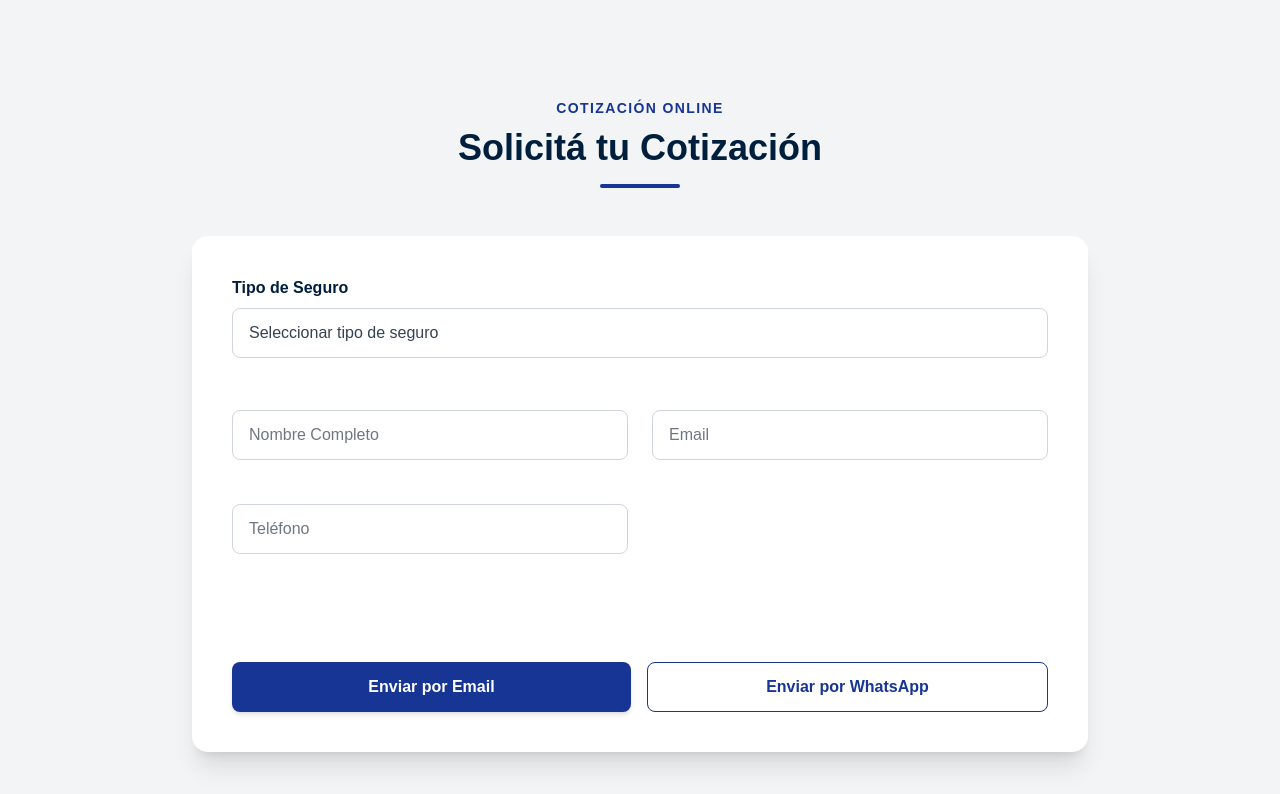
Scenario: Formulario de Cotización Completo › Validaciones de campos dinámicos según tipo de seguro › Validaciones para Seguro de Hogar › No permite enviar si los metros cuadrados están incompletos
The width and height of the screenshot is (1280, 794).
Select "Hogar" in the dropdown named "tipo de seguro" at (640, 333), box [232, 308, 1048, 358]
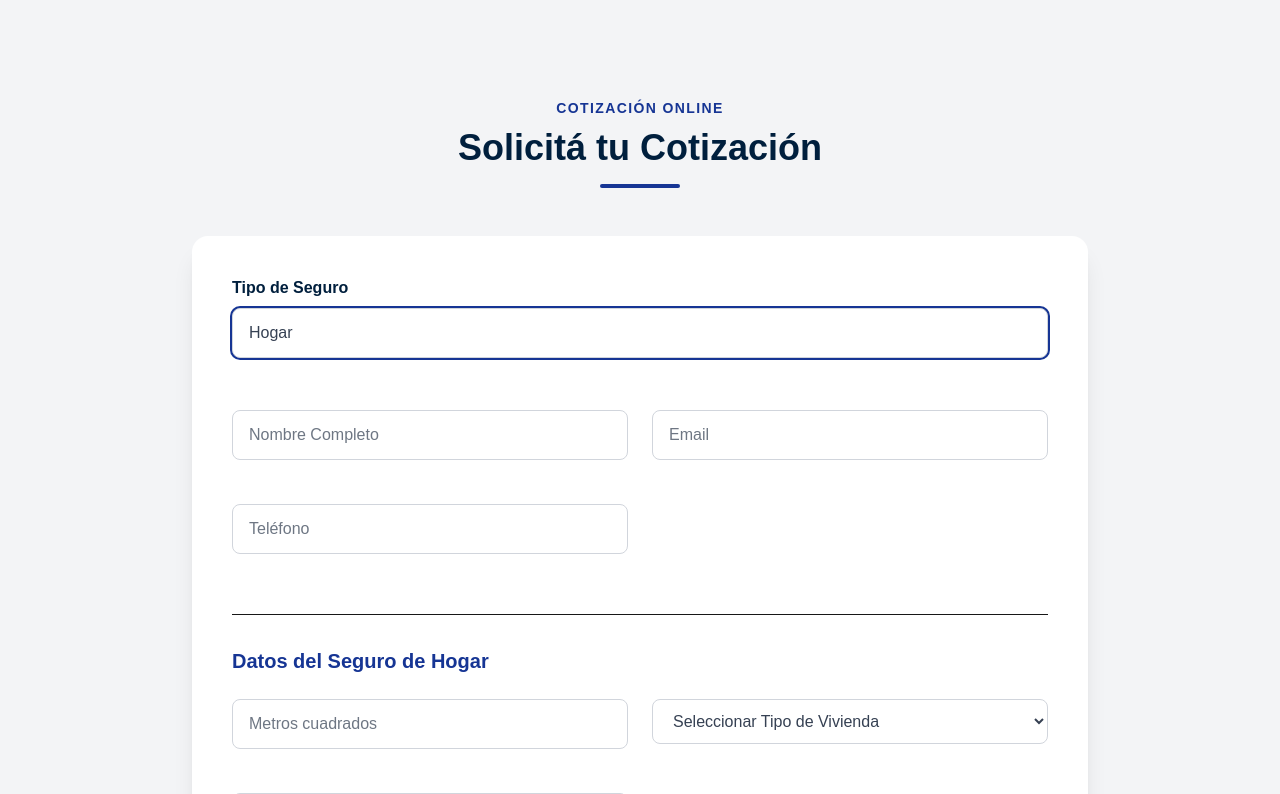
Type "Juan" into the field with placeholder "Nombre Completo" at (430, 435), box [232, 410, 628, 460]
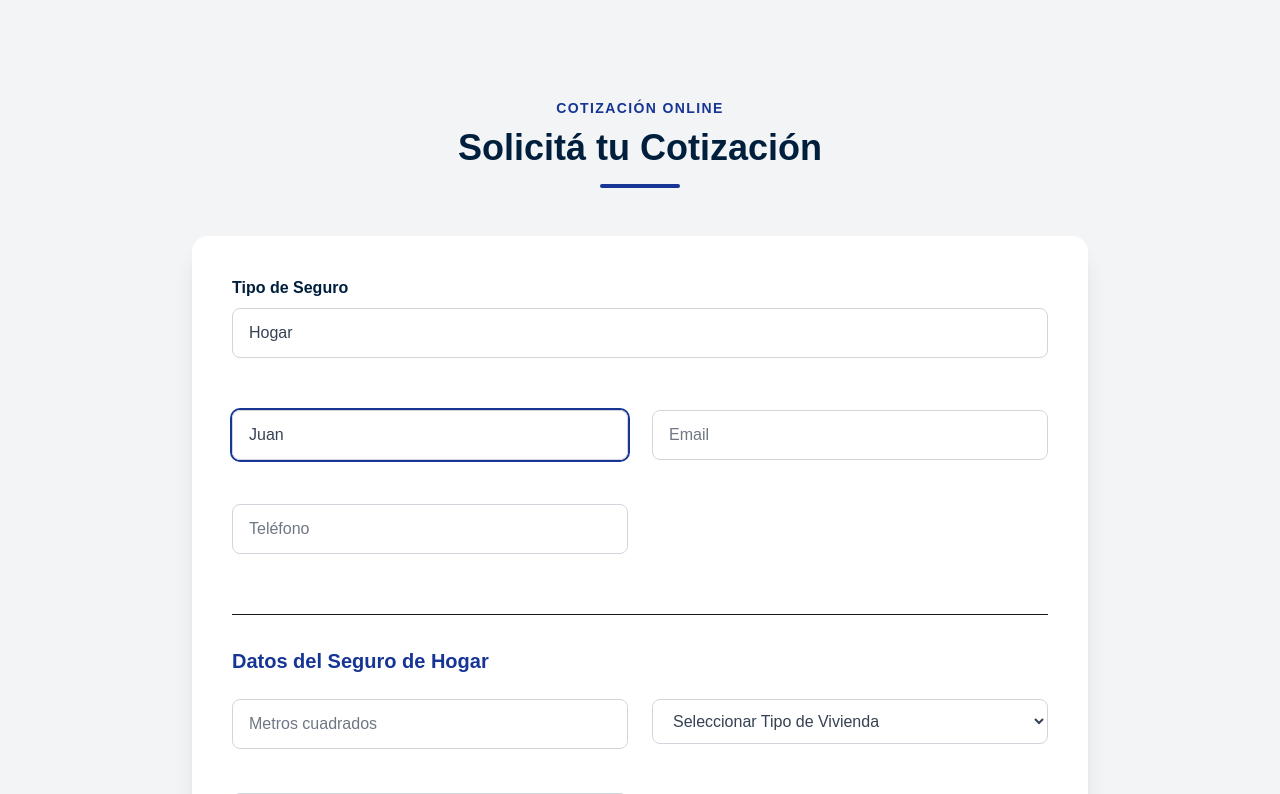
Type "juan@mail.com" into the field with placeholder "Email" at (850, 435), box [652, 410, 1048, 460]
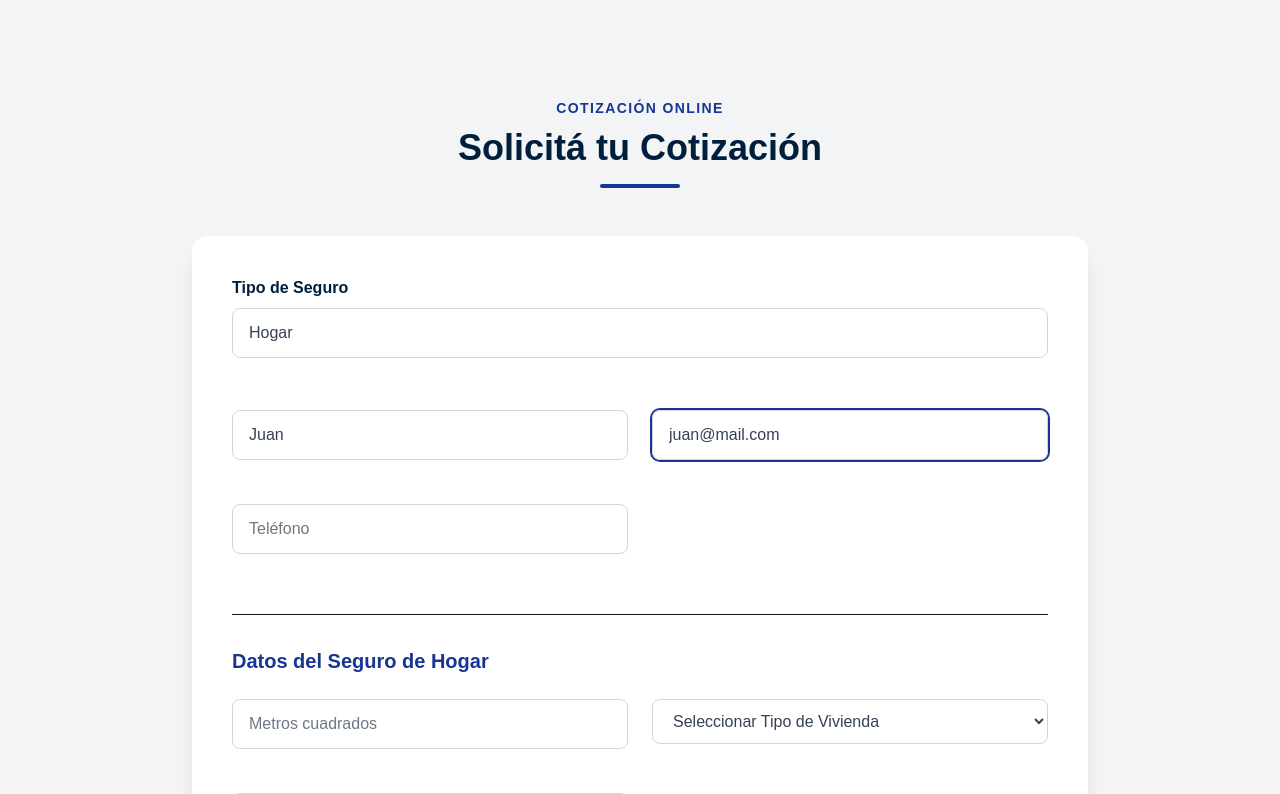
Type "12345678" into the number field with placeholder "Teléfono" at (430, 529), box [232, 504, 628, 554]
(page scrolled)
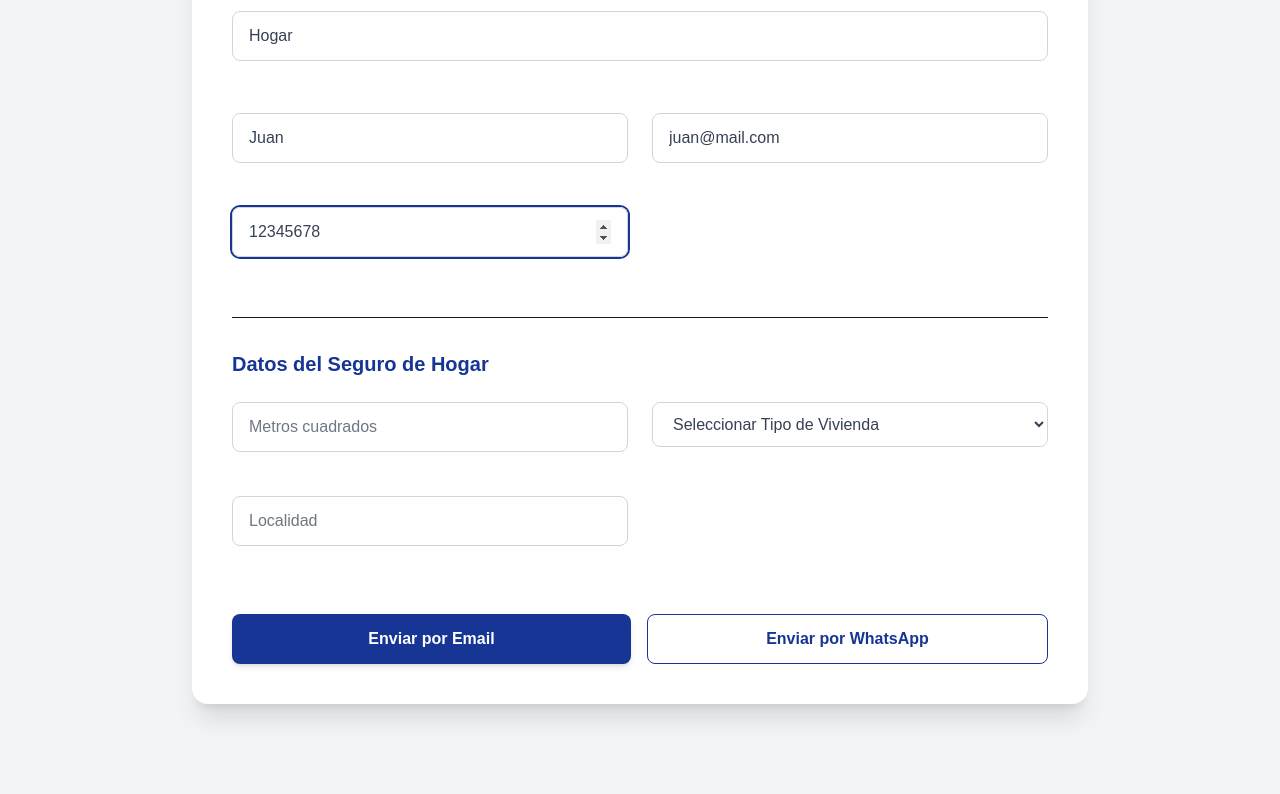
Click the button "Enviar por WhatsApp" at (848, 639), box [647, 614, 1048, 664]
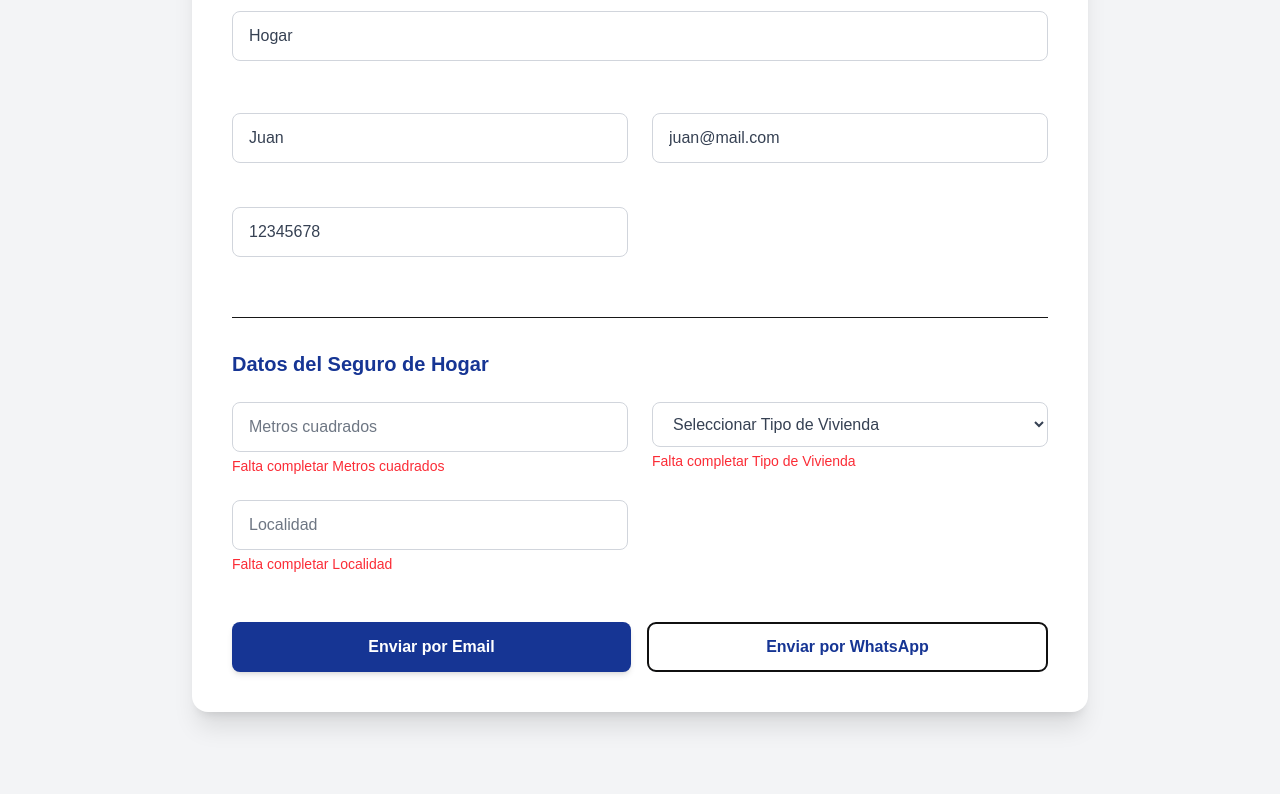
Expected: the text "Falta completar Metros cuadrados" is shown, [232, 458, 444, 474]
